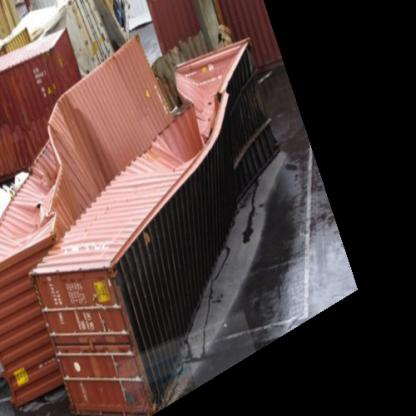Damage: (10, 90, 108, 296), (139, 50, 278, 194)
